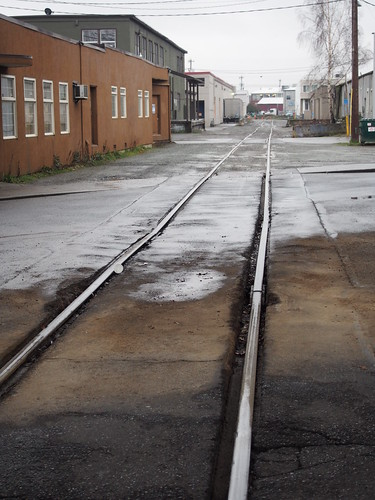building: (1, 20, 164, 157), (108, 27, 191, 137), (189, 74, 244, 125)
train track: (1, 146, 375, 500)
